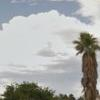Tree: (71, 26, 100, 80)
